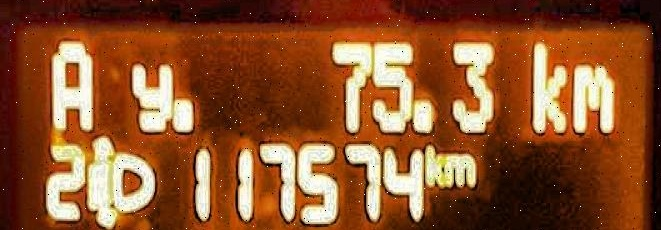-: (411, 94, 435, 136), (170, 96, 196, 134)
1: (185, 139, 219, 225), (224, 139, 257, 223)
2: (38, 137, 86, 222)
3: (442, 34, 497, 137)
4: (382, 141, 422, 222)
5: (370, 37, 411, 133), (294, 136, 337, 225)
7: (329, 34, 369, 136), (342, 136, 381, 225), (253, 137, 292, 225)
X: (45, 34, 95, 133), (526, 31, 566, 134), (125, 56, 171, 136), (570, 59, 617, 136), (442, 149, 478, 189), (424, 141, 444, 189)
